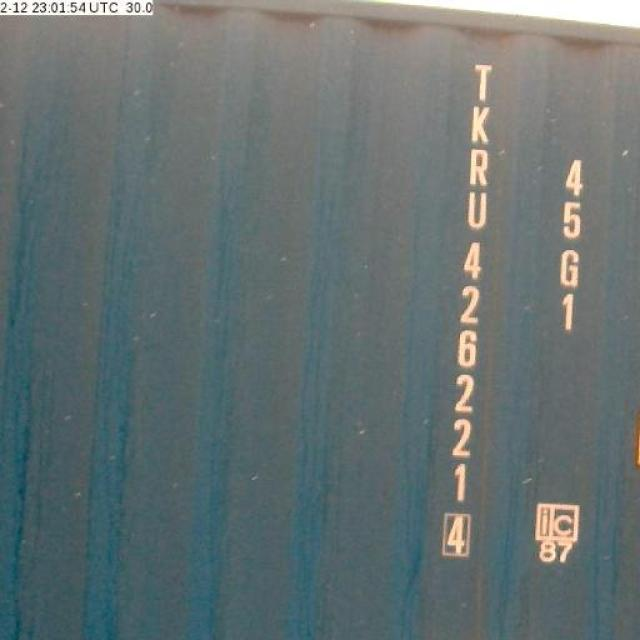ISO: (557, 154, 586, 332)
container_number: (440, 45, 498, 569)
